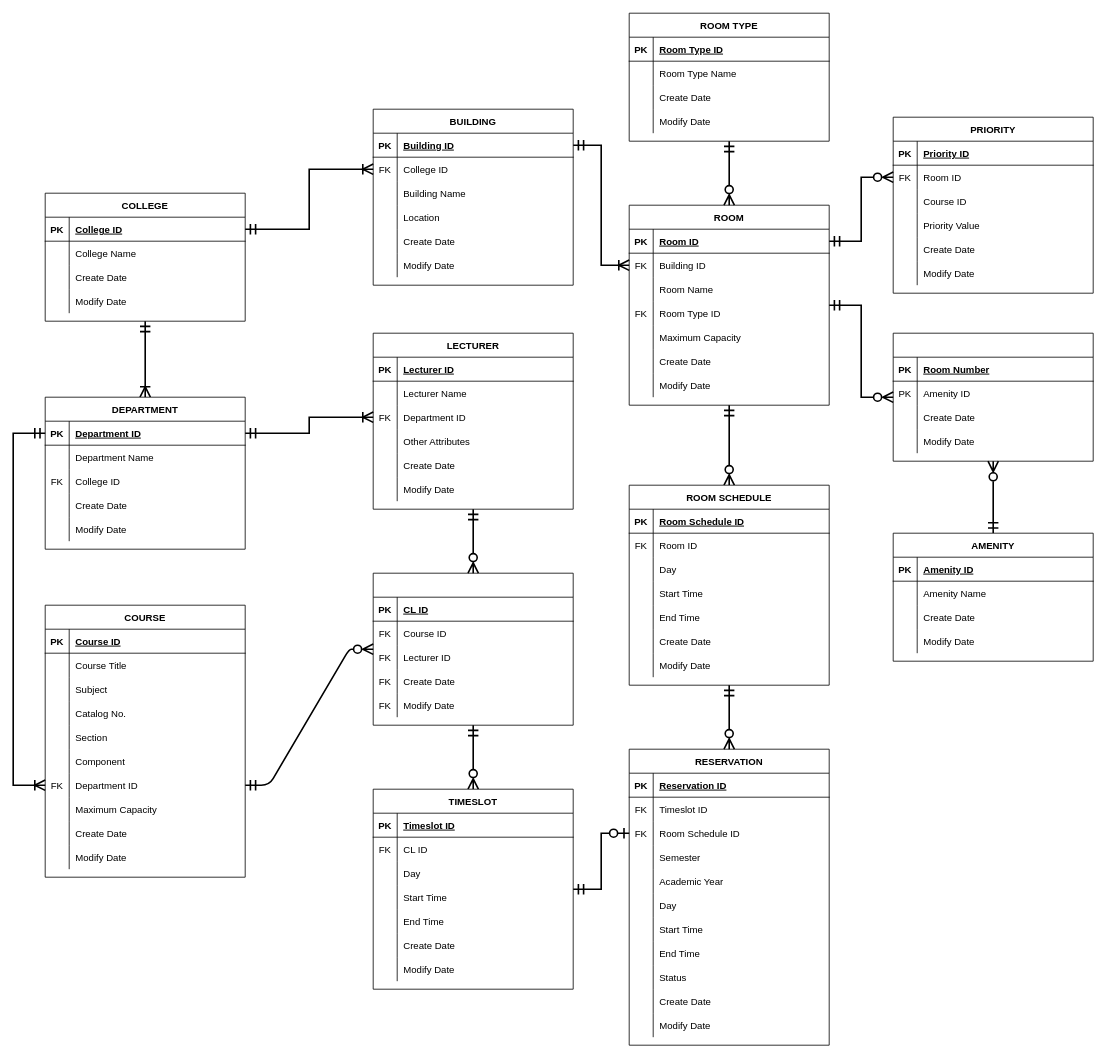
Image size: 1106x1058. Some labels were removed from this diagram. The box of each missing label's shape, as (x1, y1, x2, y2) in pixels:
COURSE LECTURER LINE: (372, 572, 573, 725)
ROOM AMENITY LINE: (892, 332, 1093, 461)
